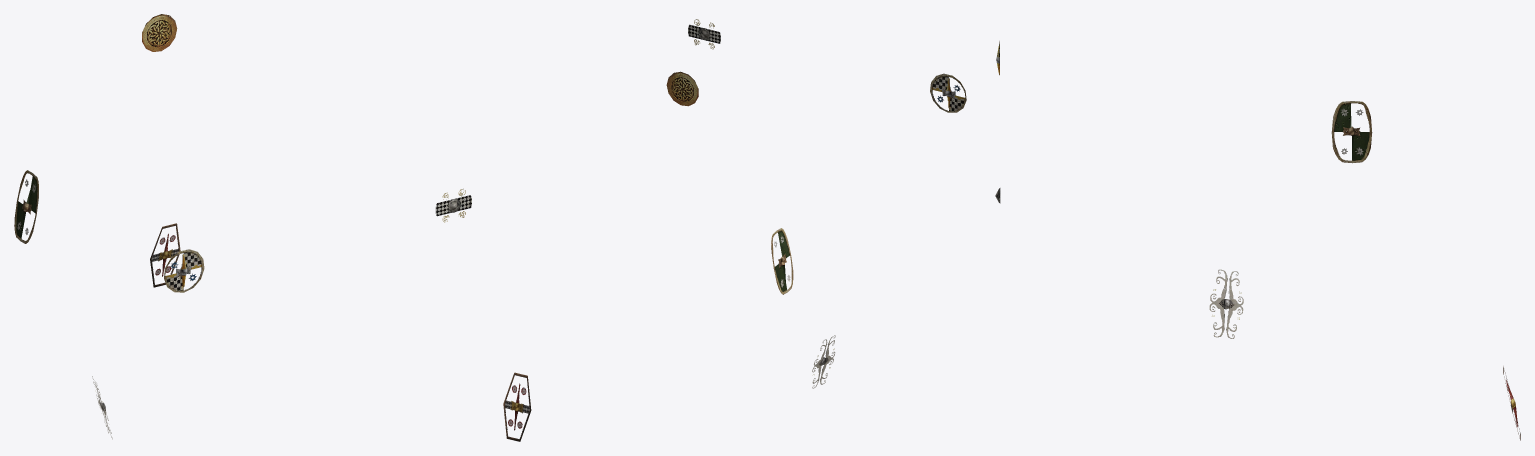
File: celt_fortress_props_new.dae
3 renders of one model, left to right at view 1: azimuth 30°, elevation 25°; view 2: azimuth 150°, elevation 25°; view 3: azimuth 270°, elevation 25°, orthographic. The views are drawn at different scales.
Visible parts, largest first — view 1: Plane18-Pivot; view 2: Plane18-Pivot; view 3: Plane18-Pivot.
Part boxes in pixels (x1,y1,x2,y2): Plane18-Pivot: [14, 14, 471, 439]; Plane18-Pivot: [503, 19, 966, 441]; Plane18-Pivot: [995, 41, 1520, 440].
Size of the model in its own units: 12.98 by 18.39 by 14.49.
